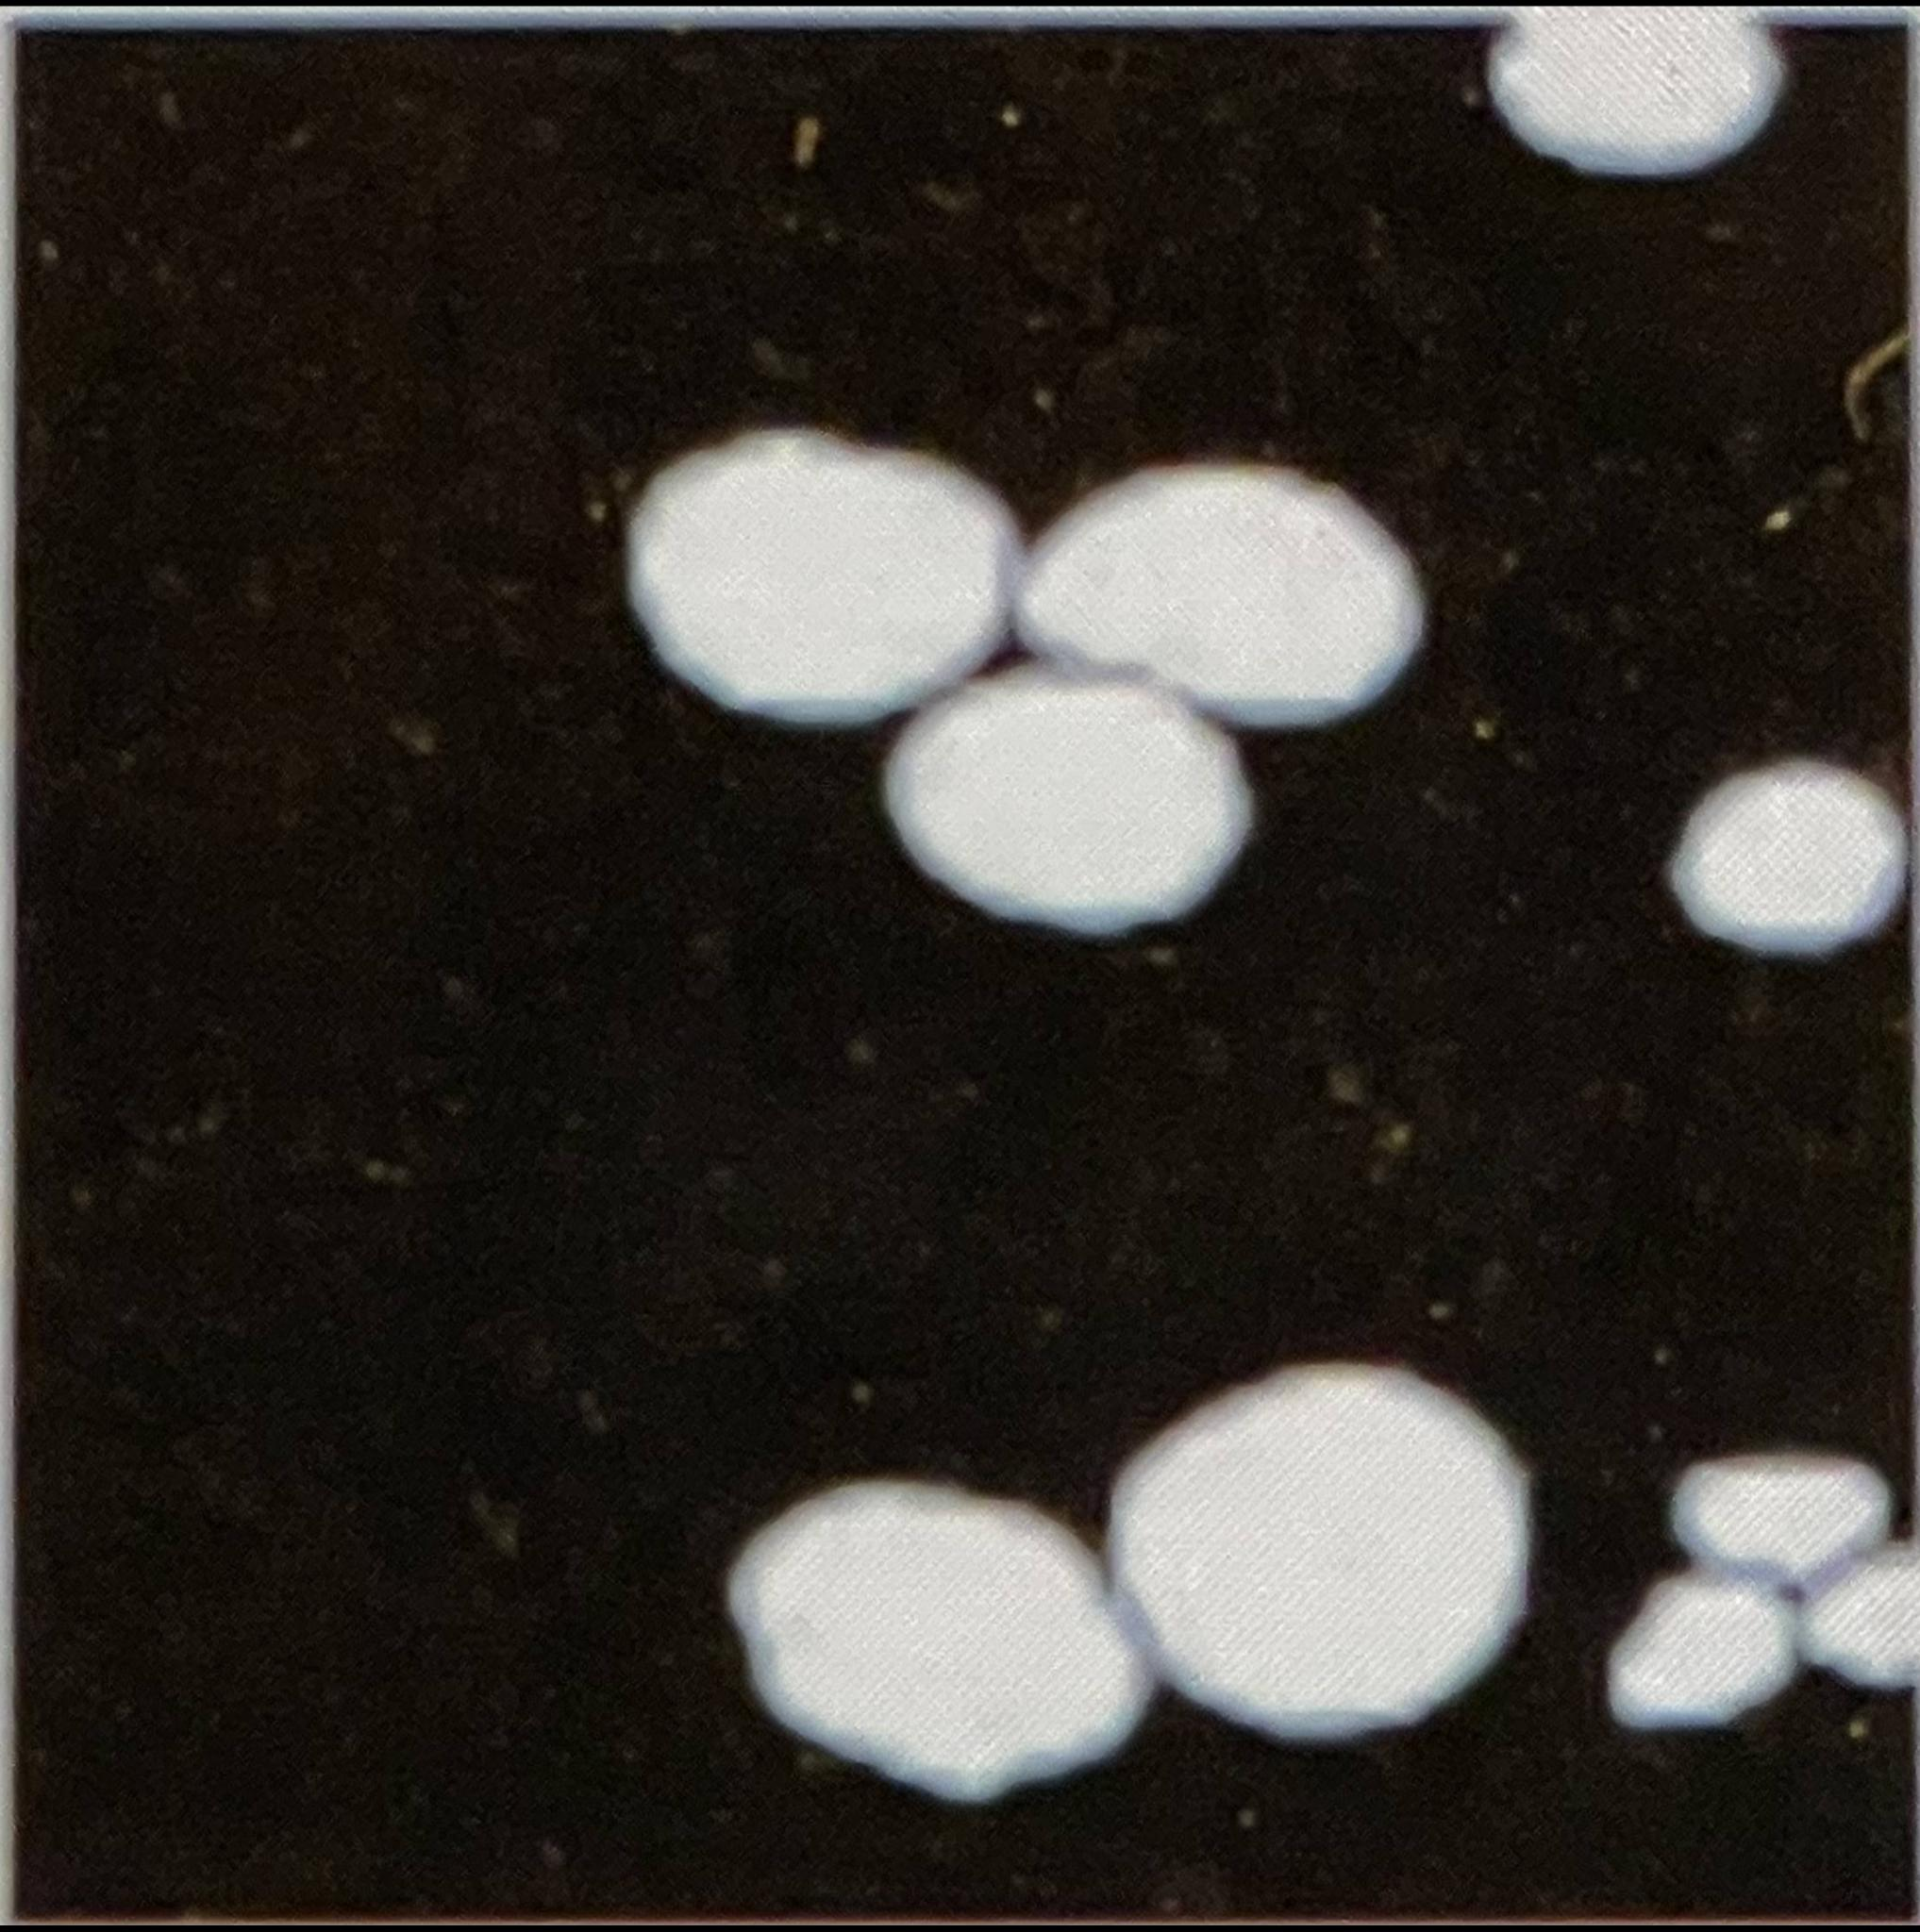cell: (1108, 1366, 1530, 1742), (726, 1484, 1150, 1804), (624, 427, 1020, 724), (1015, 462, 1424, 726), (884, 666, 1252, 937), (1487, 5, 1783, 172), (1669, 759, 1909, 956), (1609, 1575, 1799, 1733), (1672, 1457, 1892, 1589), (1802, 1549, 1920, 1691)
